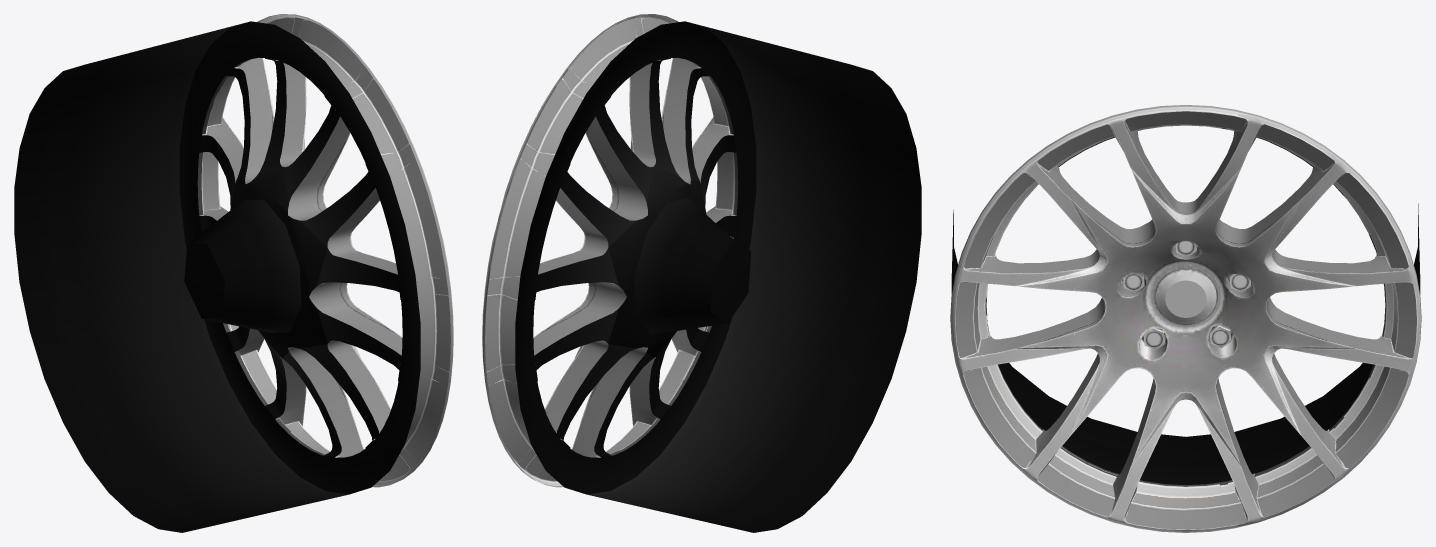
Rendered from wheel3.fbx.
3 views of the same model, side by side, from view 1: azimuth 30°, elevation 25°; view 2: azimuth 150°, elevation 25°; view 3: azimuth 270°, elevation 25° (orthographic). The views are drawn at different scales.
Parts seen in each view (by area): view 1: 5zi_zr_520_wheel_wheel_inner_rim_, 5zi_zr_520_wheel_wheel_rim_, wheel_rim; view 2: 5zi_zr_520_wheel_wheel_inner_rim_, 5zi_zr_520_wheel_wheel_rim_, wheel_rim; view 3: 5zi_zr_520_wheel_wheel_rim_, wheel_rim, 5zi_zr_520_wheel_wheel_inner_rim_.
Part boxes in pixels (x1,y1,x2,y2): 5zi_zr_520_wheel_wheel_inner_rim_: (14,21,420,532); 5zi_zr_520_wheel_wheel_rim_: (197,14,450,487); wheel_rim: (197,14,453,487); 5zi_zr_520_wheel_wheel_inner_rim_: (515,21,921,532); 5zi_zr_520_wheel_wheel_rim_: (482,14,738,487); wheel_rim: (485,14,733,487); 5zi_zr_520_wheel_wheel_rim_: (955,111,1421,529); wheel_rim: (950,105,1416,532); 5zi_zr_520_wheel_wheel_inner_rim_: (951,203,1420,484).
Bounding box in the file's own units: 0.2307 × 0.4803 × 0.4802.
Materials: 1 (1 with a texture image).
